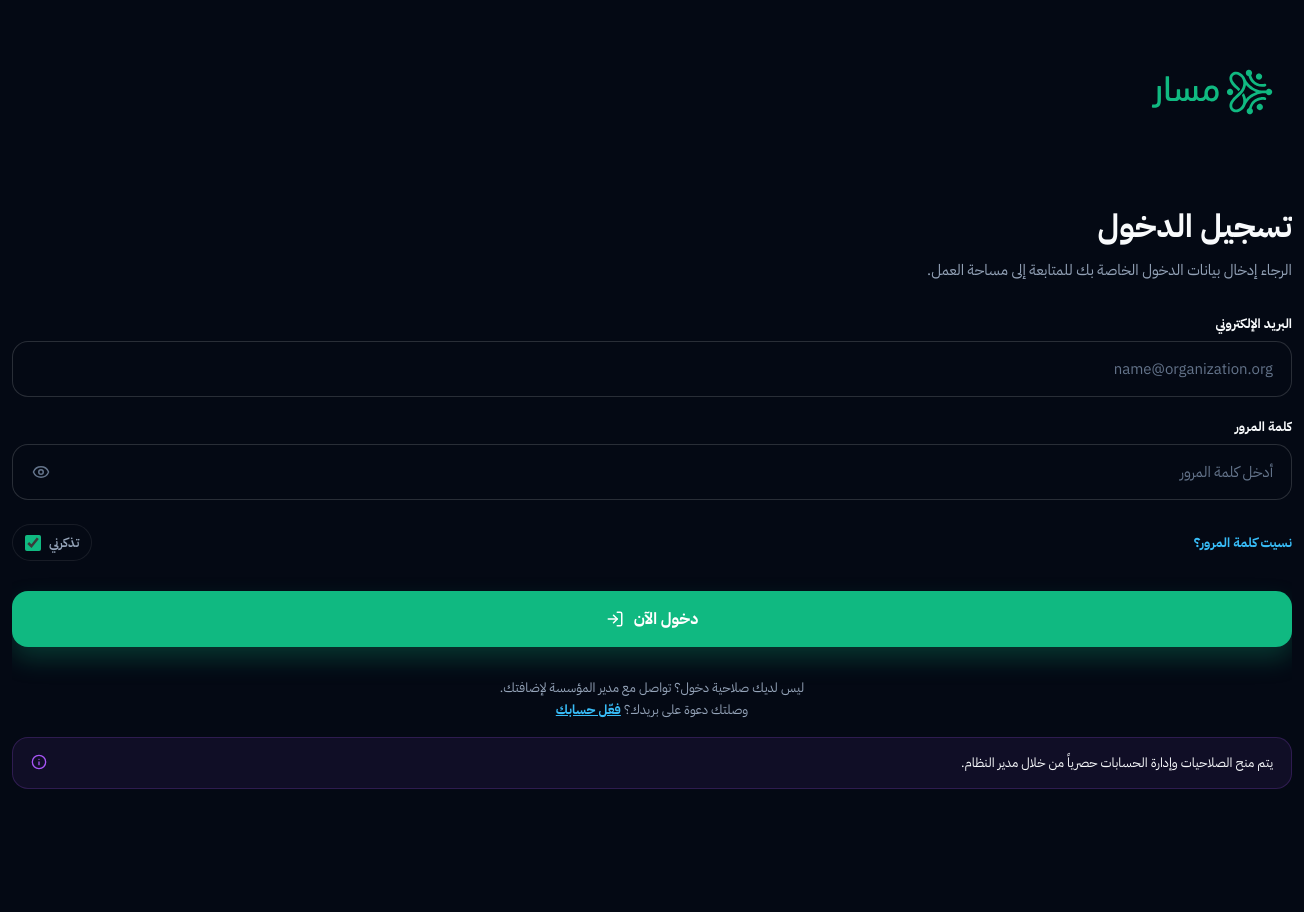
Test: LoginForm (was a setTimeout mock) › other 403 errors (e.g. a suspended organization) do not offer the verification link
The image size is (1304, 912).
Type "owner@org.org" into the field labelled "البريد الإلكتروني" at (652, 369), box [12,341,1292,397]
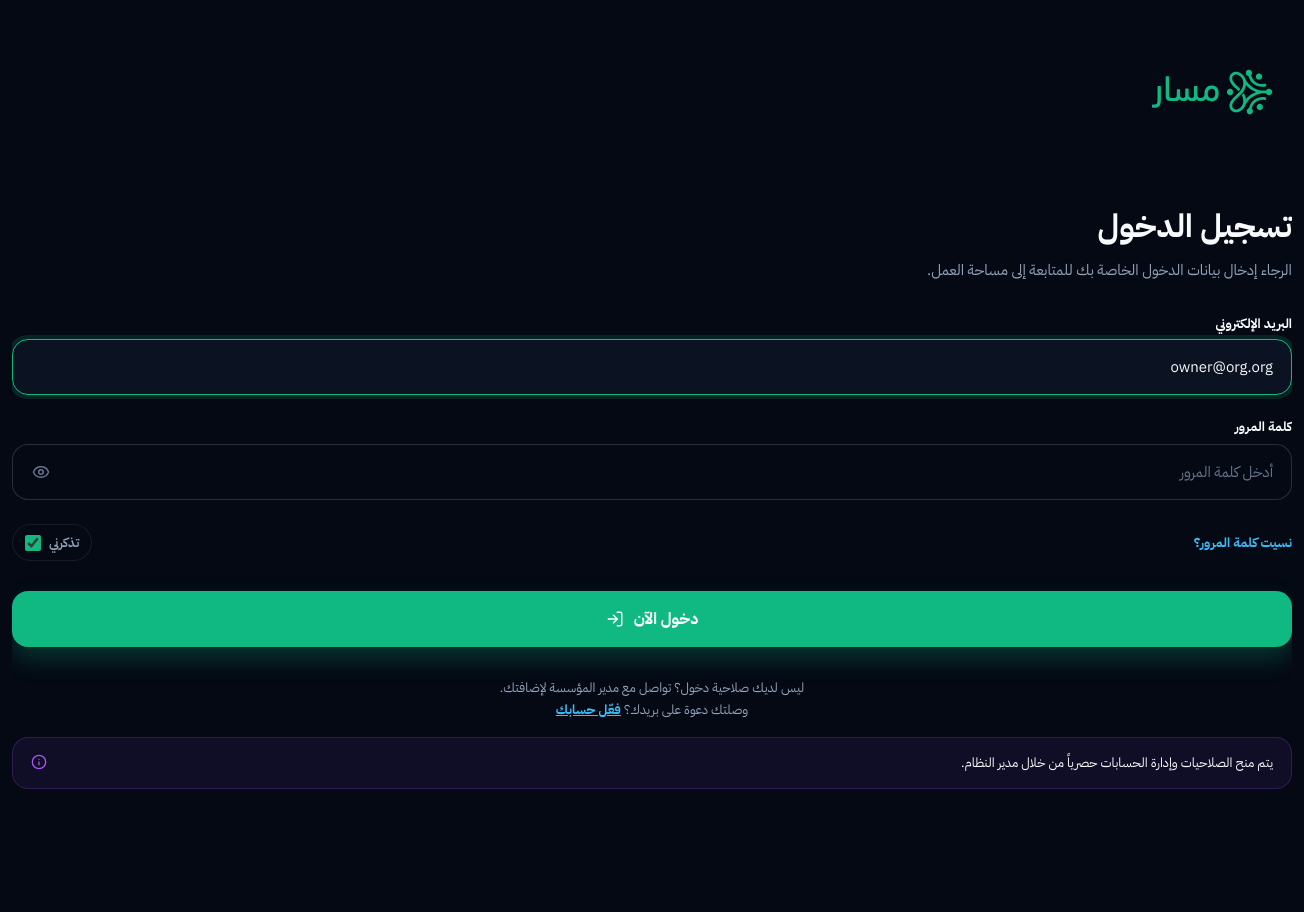
Type "pw" into the password field labelled "كلمة المرور" at (652, 472), box [12,444,1292,500]
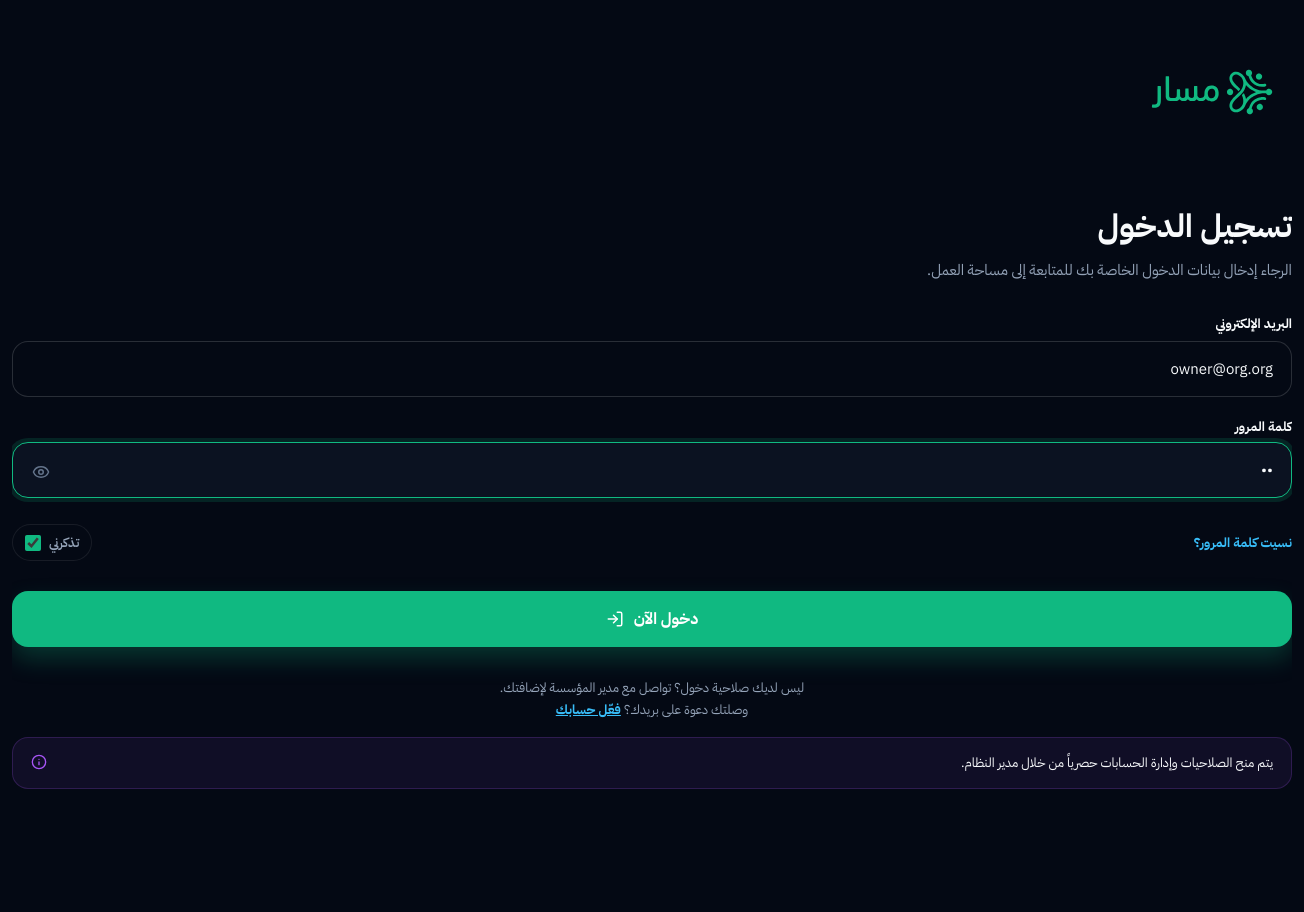
Click the button "دخول الآن" at (652, 619), box [12,591,1292,647]
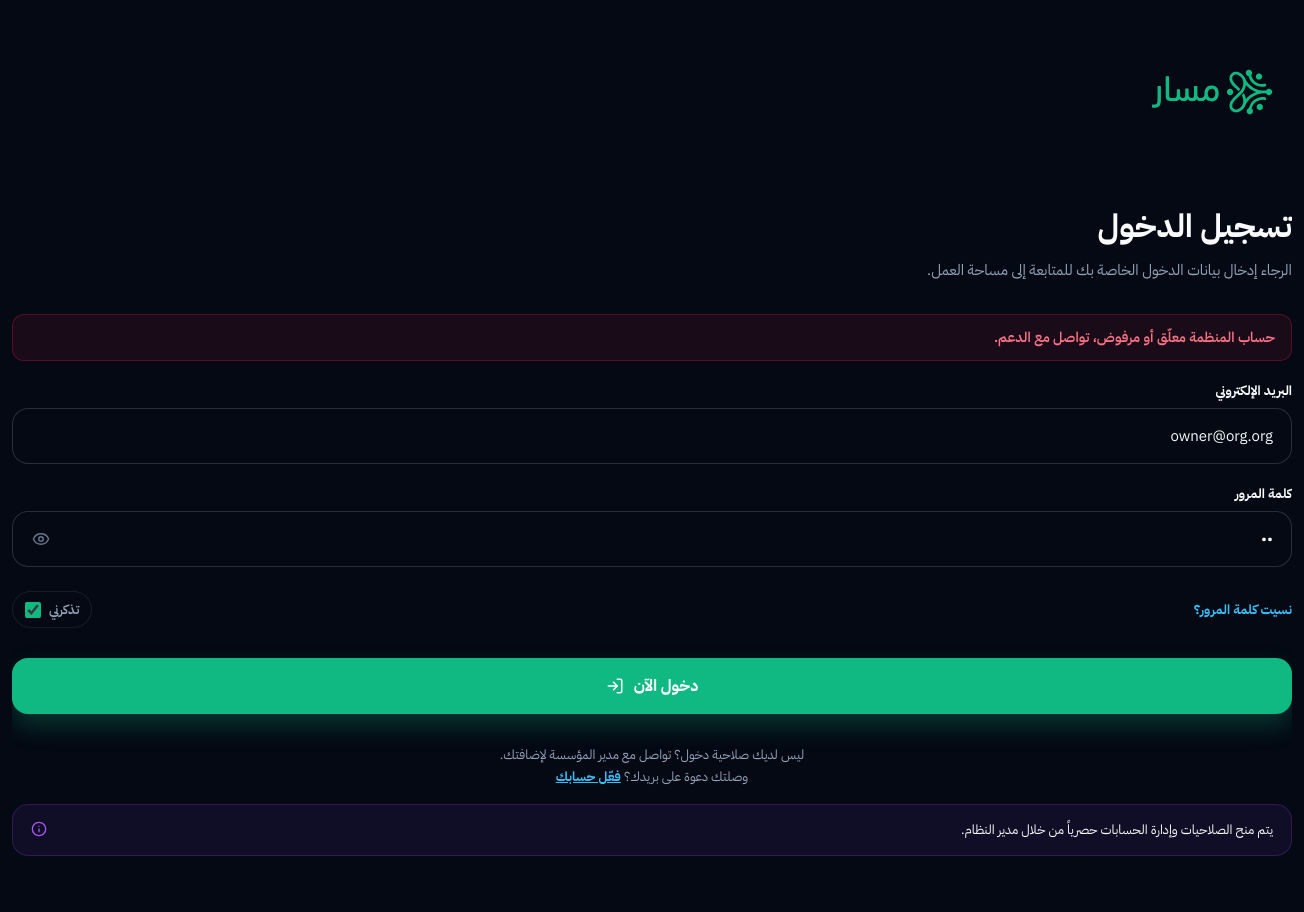
Expected: the message "حساب المنظمة معلّق أو مرفوض، تواصل مع الدعم." is shown, [12,314,1292,361]
